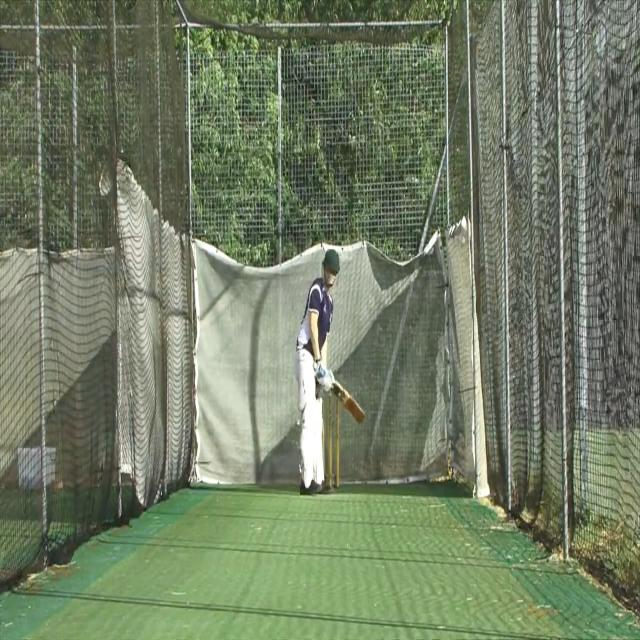batsman: (294, 246, 368, 497)
